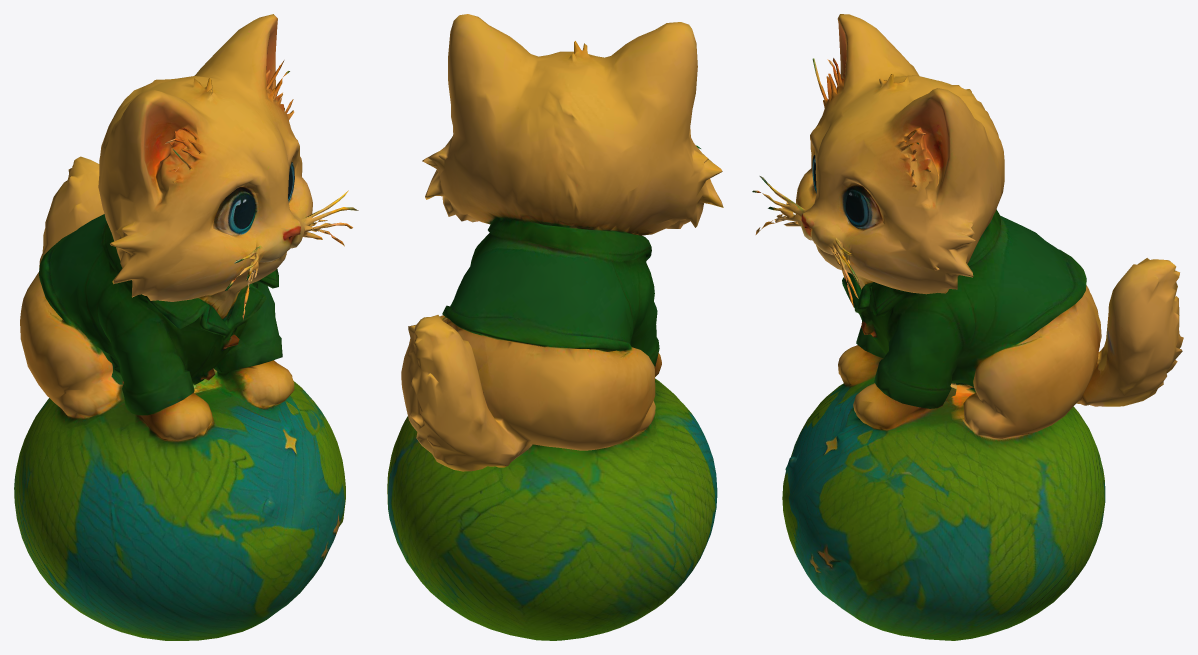
File: bommieBoy.glb
3 views of the same model, side by side, from view 1: azimuth 30°, elevation 25°; view 2: azimuth 150°, elevation 25°; view 3: azimuth 270°, elevation 25° (orthographic). The views are drawn at different scales.
Parts seen in each view (by area): view 1: TripoModel (1); view 2: TripoModel (1); view 3: TripoModel (1).
Boxes of the visible parts, <box> form: TripoModel (1): <box>14,14,358,640</box>; TripoModel (1): <box>387,14,723,640</box>; TripoModel (1): <box>752,14,1183,640</box>.
Size of the model in its own units: 0.5128 by 1 by 0.6846.
Materials: 1 (1 with a texture image).
